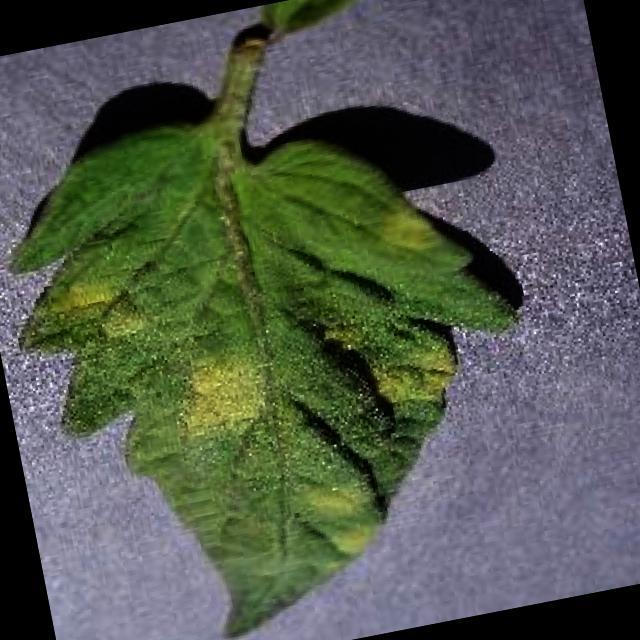Tomato mold leaf: (0, 66, 566, 640)
